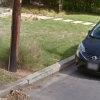Car: (66, 15, 100, 82)
